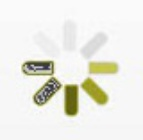ProgressBar: (1, 1, 142, 139)
